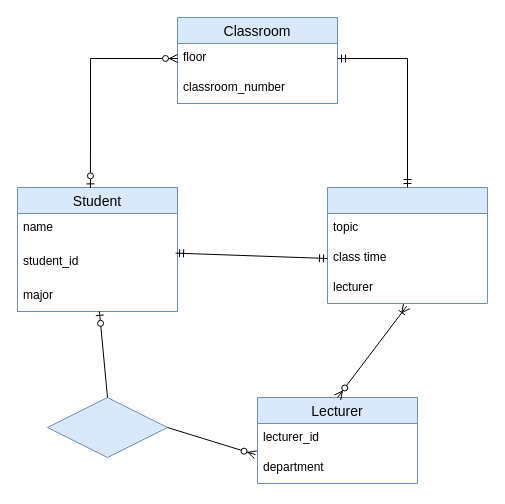
Image size: 505x504. Some labels were removed from this diagram. The shapes that lost their labels are listed below. From the top down, each one's box as (x1, y1, x2, y2) in pixels, then its label:
(326, 186, 488, 304): Course
(46, 396, 168, 458): Teaching
